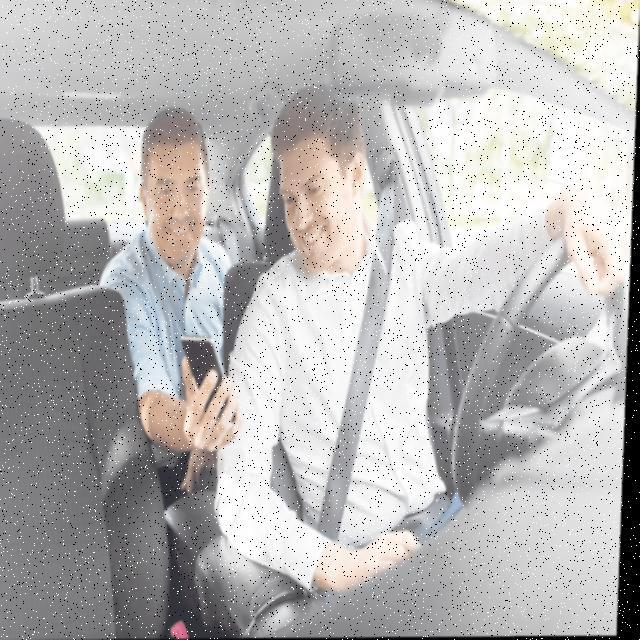noSeatbelt: (104, 234, 236, 420)
seatbelt: (273, 206, 448, 557)
